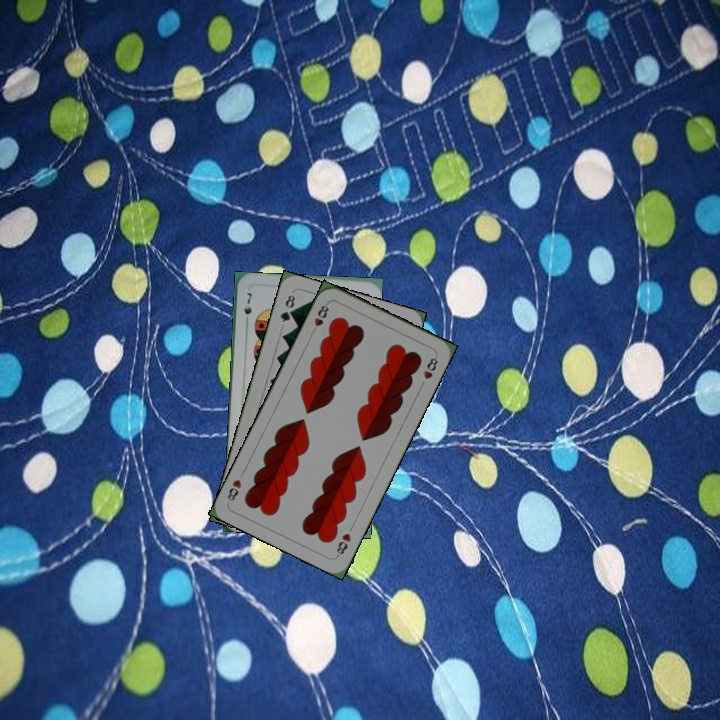G8: (276, 289, 298, 325)
H8: (307, 299, 331, 337), (332, 529, 354, 559)
S7: (240, 289, 255, 327)
